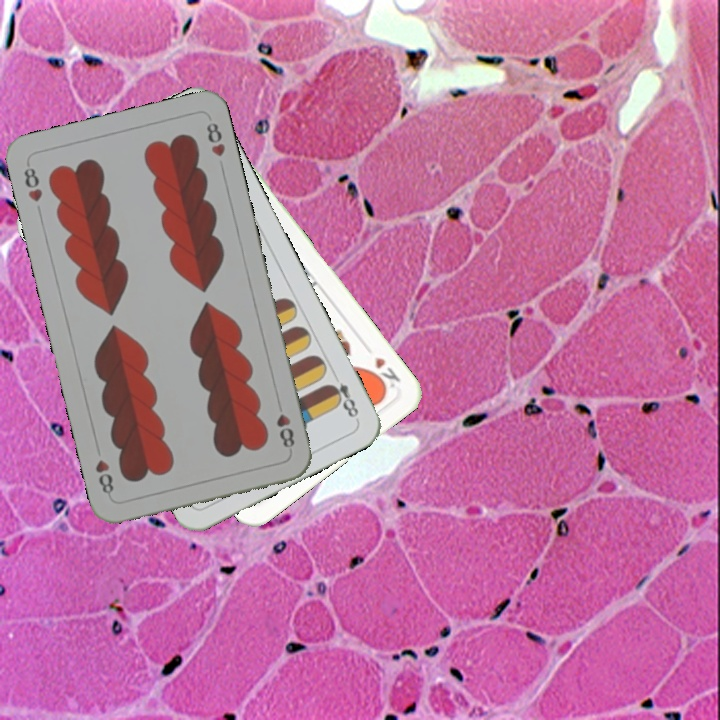E8: (324, 378, 362, 423)
H8: (20, 159, 45, 205), (272, 409, 297, 451)
HK: (365, 352, 404, 396)
